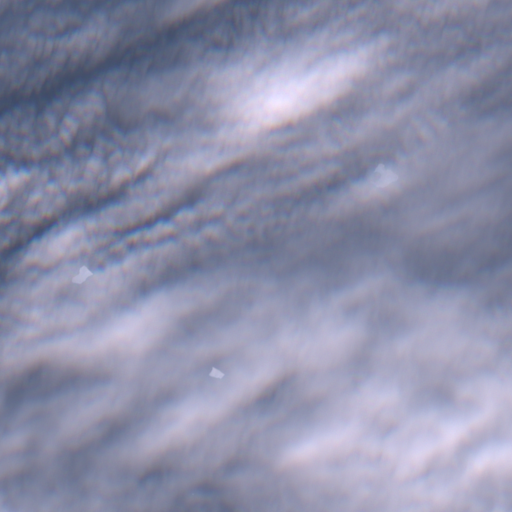Iceberg: (375, 163, 397, 186), (73, 267, 91, 282), (210, 367, 223, 377)
